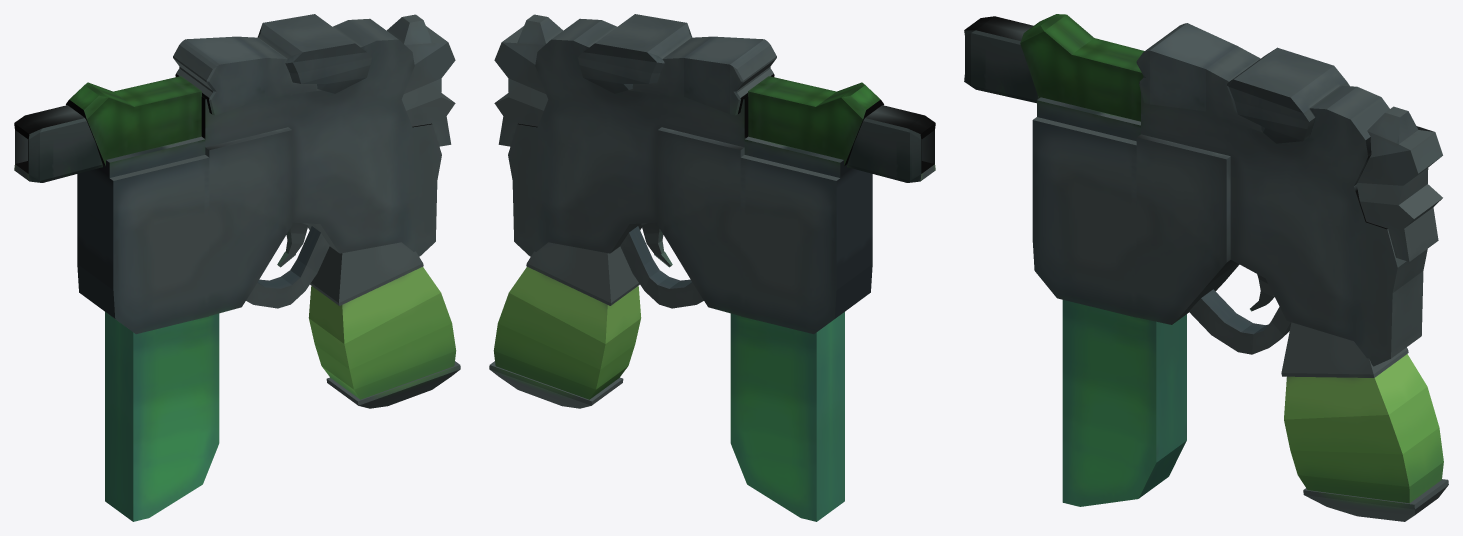
Rendered from boxy gun4.glb.
3 views of the same model, side by side, from view 1: azimuth 30°, elevation 25°; view 2: azimuth 150°, elevation 25°; view 3: azimuth 330°, elevation 25° (orthographic). The views are drawn at different scales.
Visible parts, largest first — view 1: pistola, cargador, repetidor, gatillo; view 2: pistola, cargador, repetidor, gatillo; view 3: pistola, cargador, repetidor.
Boxes of the visible parts, x1,y1,x2,y2 form: pistola: [14, 14, 460, 408]; cargador: [105, 312, 219, 521]; repetidor: [173, 14, 372, 115]; gatillo: [277, 222, 308, 267]; pistola: [489, 14, 935, 408]; cargador: [730, 312, 844, 521]; repetidor: [577, 14, 776, 115]; gatillo: [641, 222, 672, 267]; pistola: [964, 14, 1448, 521]; cargador: [1062, 300, 1186, 506]; repetidor: [1136, 23, 1349, 143].
Bounding box in the file's own units: 1.27 × 1.26 × 0.2085.
1 material, 1 textured.
